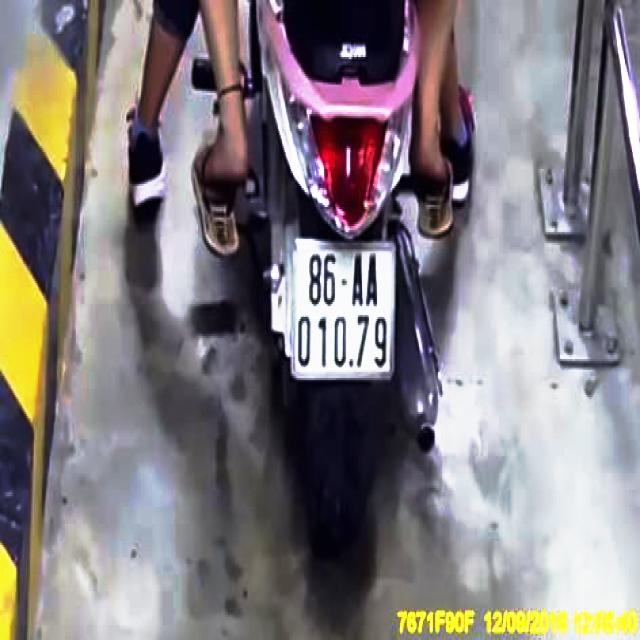license_plate: (294, 240, 394, 375)
